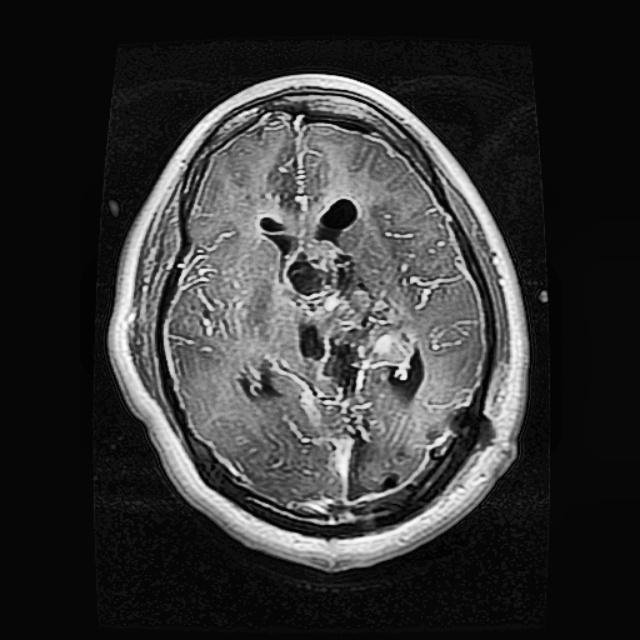Glioma: (279, 243, 423, 377)
